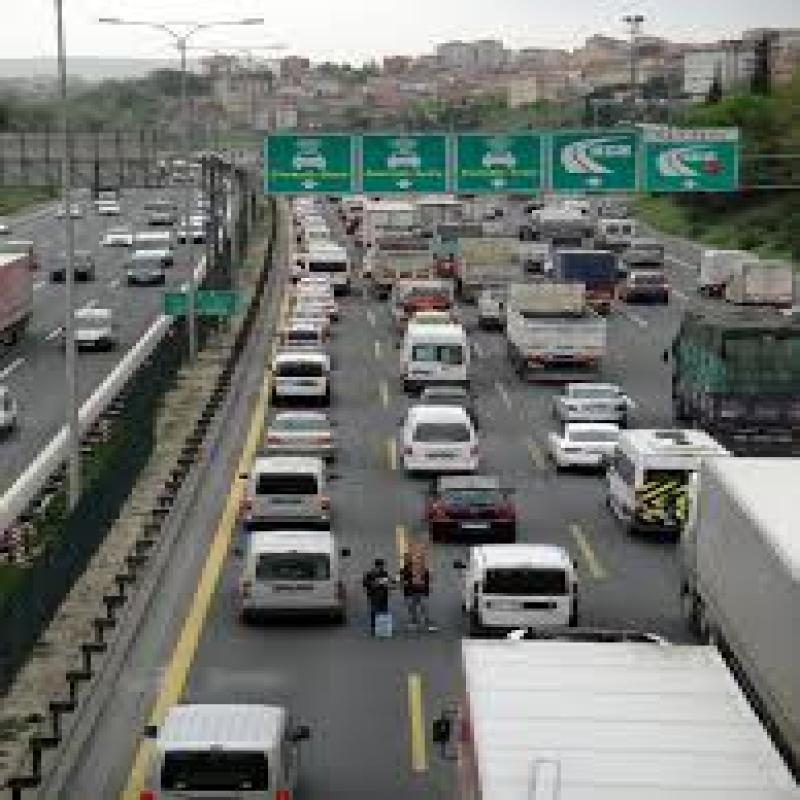car: (444, 532, 582, 636), (227, 516, 342, 640), (207, 440, 325, 528), (439, 474, 532, 566), (394, 409, 476, 492), (392, 316, 470, 366), (271, 404, 353, 451), (280, 345, 345, 392)
